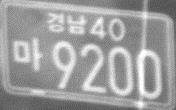0: (106, 44, 134, 97), (136, 48, 163, 100), (108, 17, 126, 44)
2: (79, 42, 108, 95)
4: (87, 15, 107, 39)
9: (50, 39, 77, 90)
경남_O: (45, 11, 87, 35)
마: (12, 35, 43, 72)
